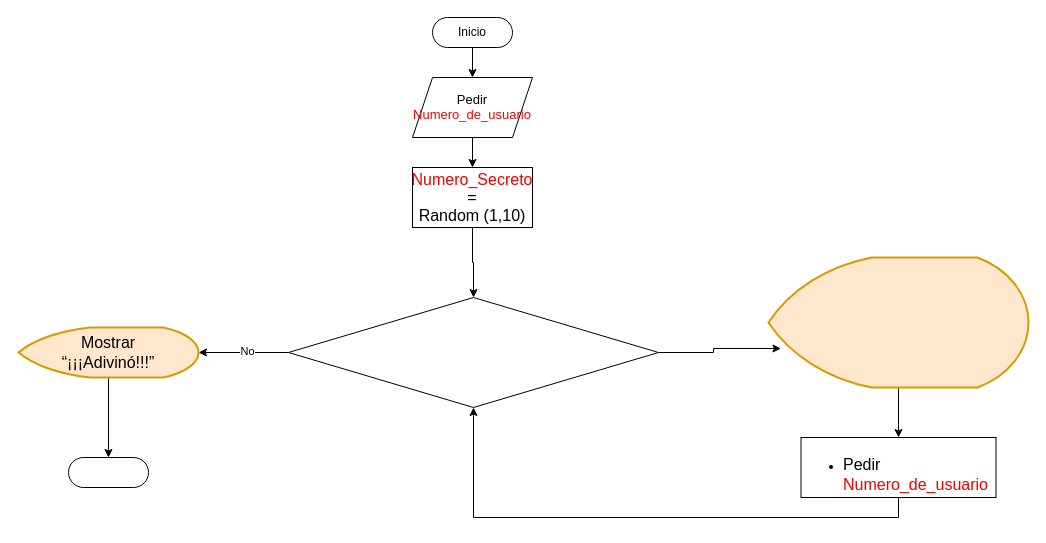
Some shapes in this 1046 by 543 pixel diagram are drawn without their labels. The centre of each missing label's shape, as x and y in pixels:
"Fin" goes at [108,472].
"Mostrar “No adivinó, intente de nuevo ” Mostrar “Ingrese su número del 1 al 10”" goes at [898,322].
"Numero_de_usuario != Numero_Secreto" goes at [473,352].
